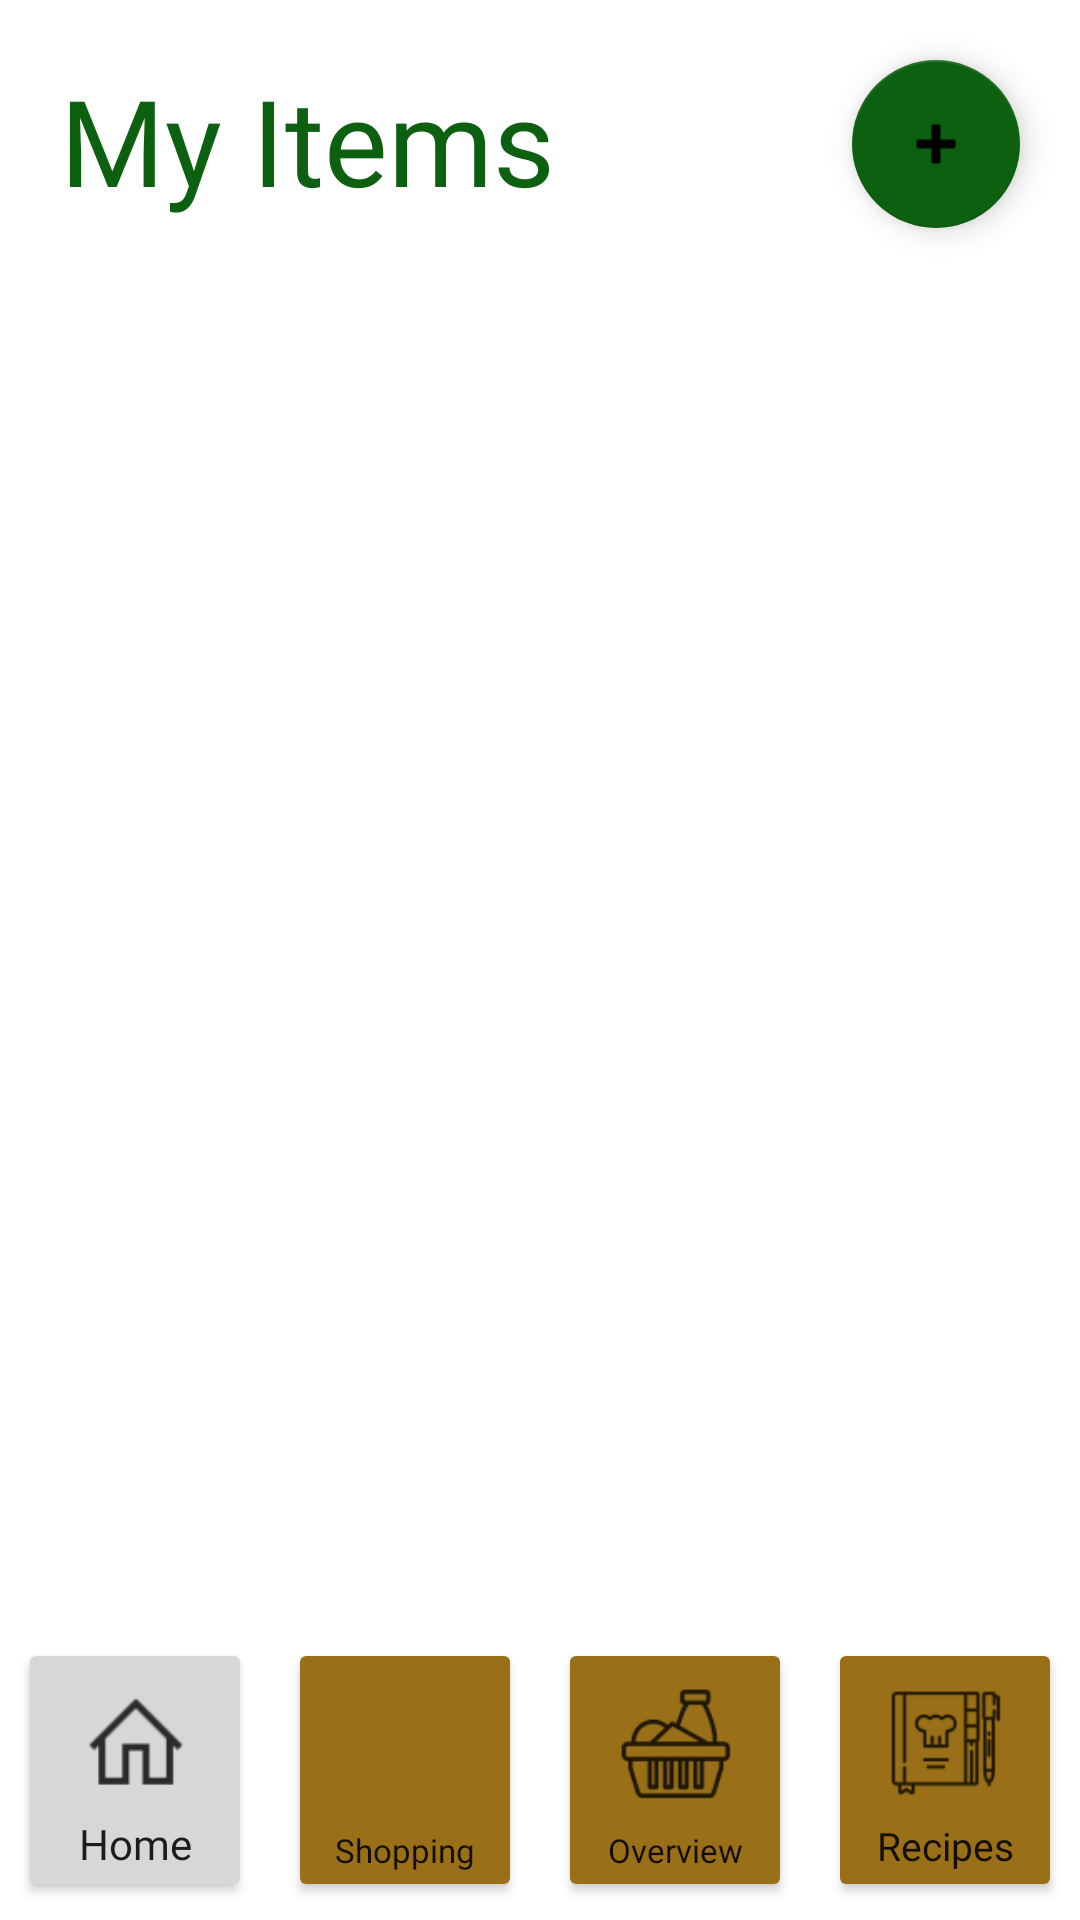

Icons on this 1080w x 1920h Android screen, each with the point to tap as [x,y]:
add: [936,144]
ingredient: [675,1743]
